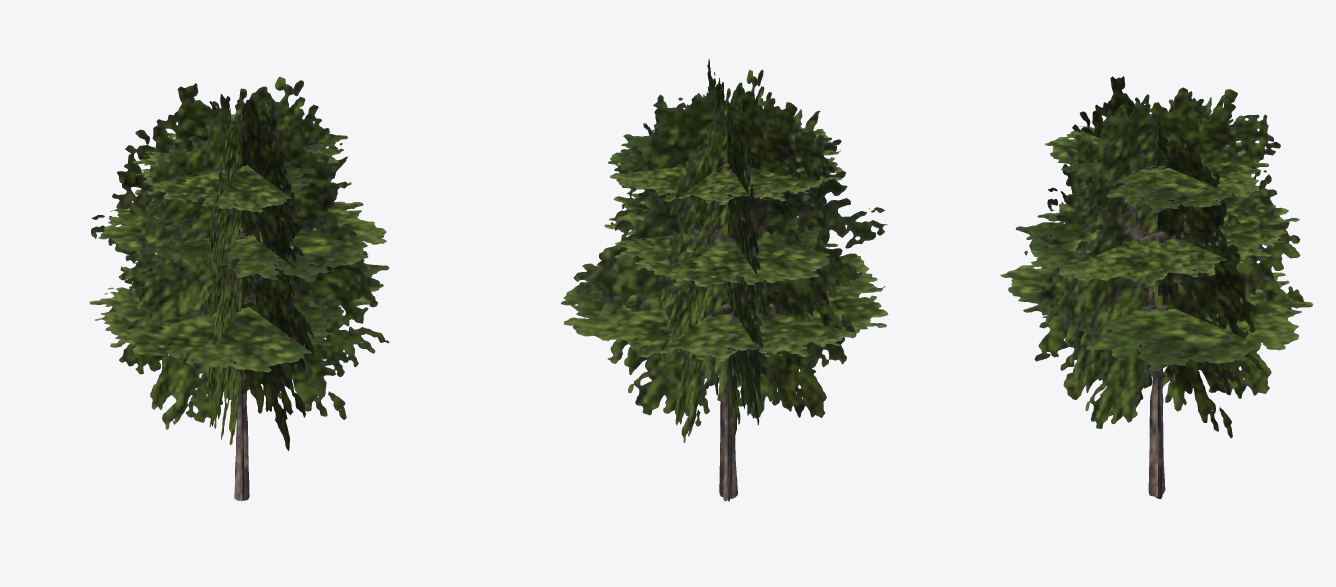
The picture shows the model from 3 angles, left to right: view 1: azimuth 30°, elevation 25°; view 2: azimuth 150°, elevation 25°; view 3: azimuth 270°, elevation 25°; orthographic projection.
Size of the model in its own units: 8.32 by 11.15 by 8.2.
1 material, 1 textured.
